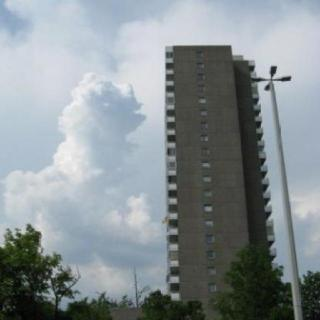Cumulus: (0, 0, 163, 282)
